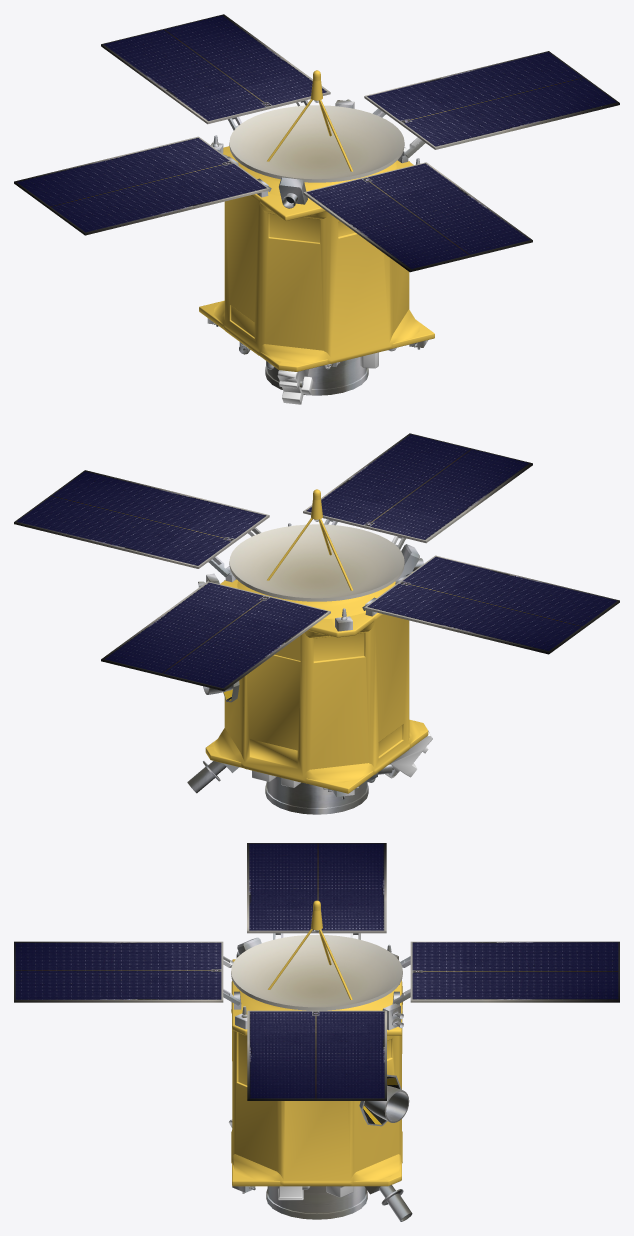
File: near-shoemaker.glb
3 renders of one model, top to bottom at view 1: azimuth 30°, elevation 25°; view 2: azimuth 150°, elevation 25°; view 3: azimuth 270°, elevation 25°, orthographic.
Parts seen in each view (by area): view 1: shiny_panels, foil_gold, tex_01, foil_silver; view 2: shiny_panels, foil_gold, tex_01, foil_silver; view 3: shiny_panels, tex_01, foil_gold, foil_silver.
Boxes of the visible parts, x1,y1,x2,y2 form: shiny_panels: [16, 15, 617, 269]; foil_gold: [199, 70, 434, 371]; tex_01: [14, 14, 619, 395]; foil_silver: [277, 347, 396, 404]; shiny_panels: [16, 434, 617, 688]; foil_gold: [205, 489, 428, 793]; tex_01: [14, 433, 619, 814]; foil_silver: [252, 731, 432, 789]; shiny_panels: [15, 843, 618, 1098]; tex_01: [14, 843, 619, 1221]; foil_gold: [231, 900, 402, 1186]; foil_silver: [229, 1119, 353, 1200].
Size of the model in its own units: 5.29 by 2.86 by 5.29.
Materials: 4 (2 with a texture image).
